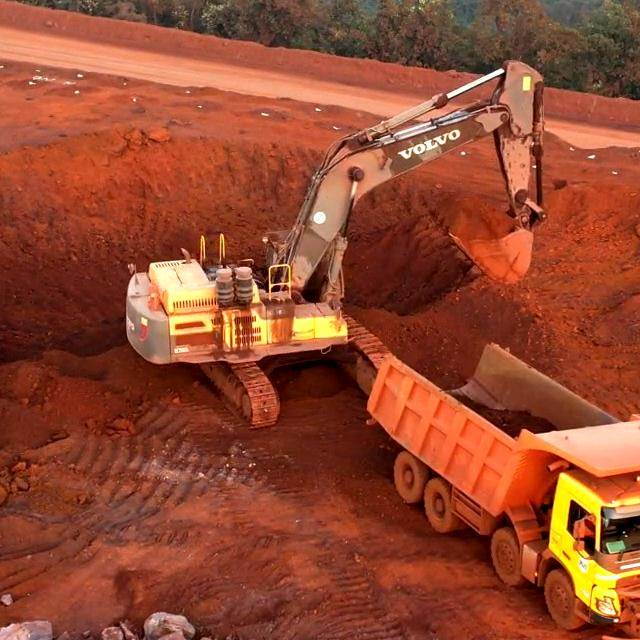Dumper truck: (545, 438, 640, 617)
Excavator: (122, 227, 389, 436)
